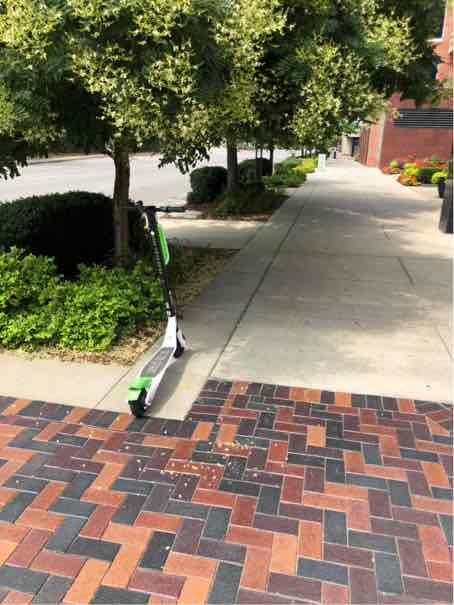scooter: (111, 188, 200, 419)
